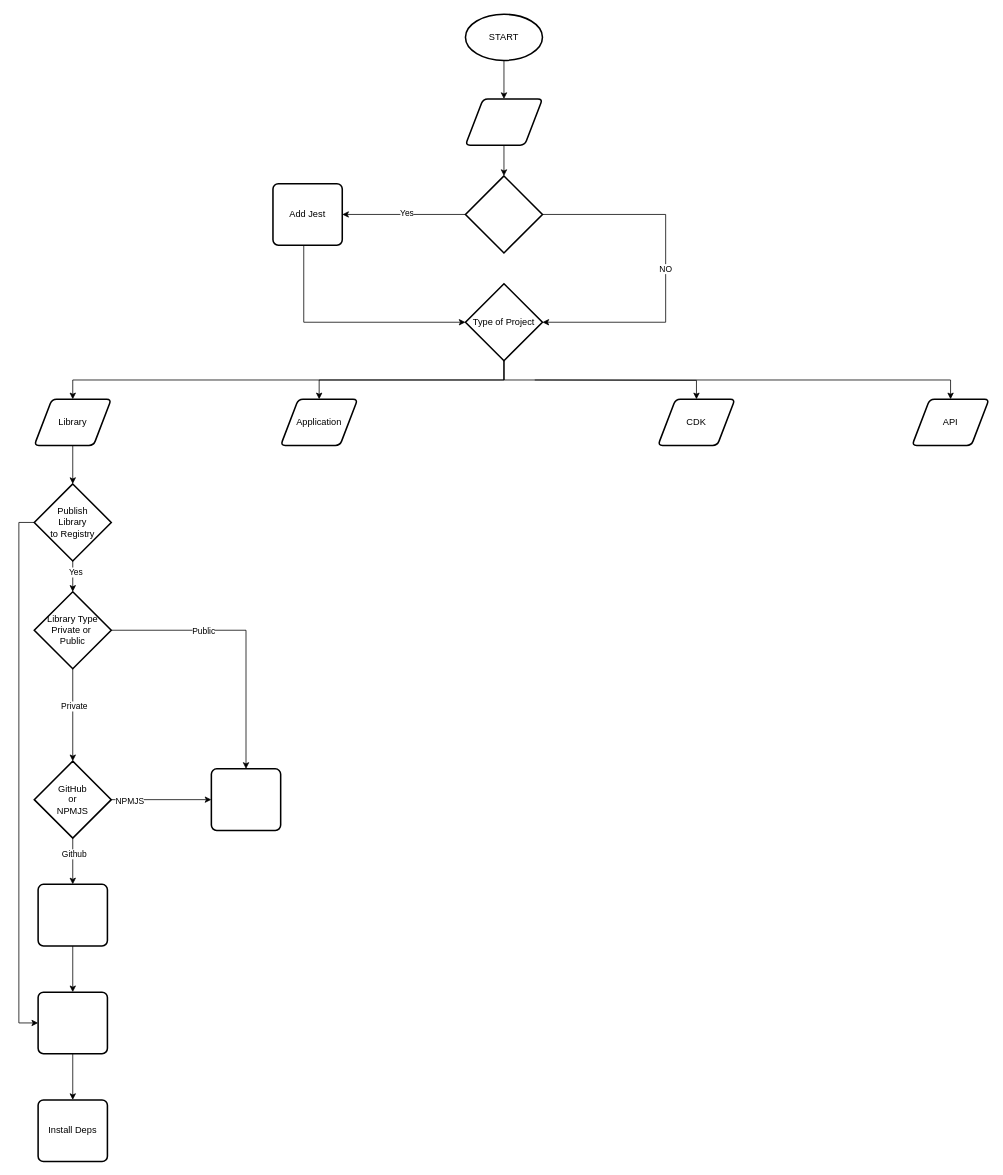
Image size: 1003x1175. Some labels were removed from this diagram. The box of each missing label's shape, as (x1, y1, x2, y2) in pixels:
Copy Files: (37, 991, 108, 1054)
Include Testing: (464, 175, 543, 253)
Name of Project: (464, 98, 543, 146)
Publish to GitHub: (37, 883, 108, 946)
Publish to NPMJS: (210, 768, 281, 831)
